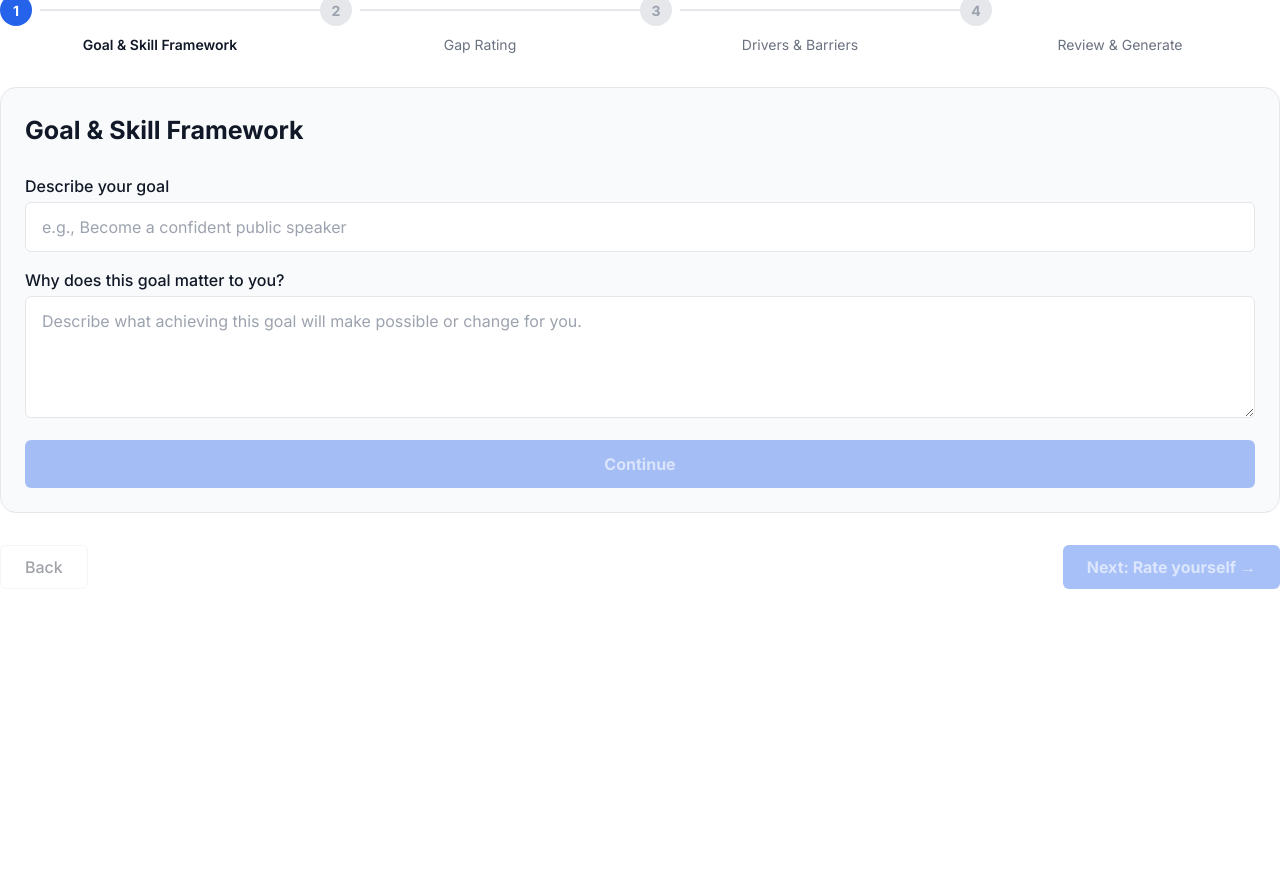
Scenario: WizardStep2 › Enter Step 2 — rows render at neutral 5 › renders one row per framework item with name, required chip, slider at 5
In the field labelled "Describe your goal": (640, 226) x1=25 y1=202 x2=1255 y2=252, type "Learn to present"
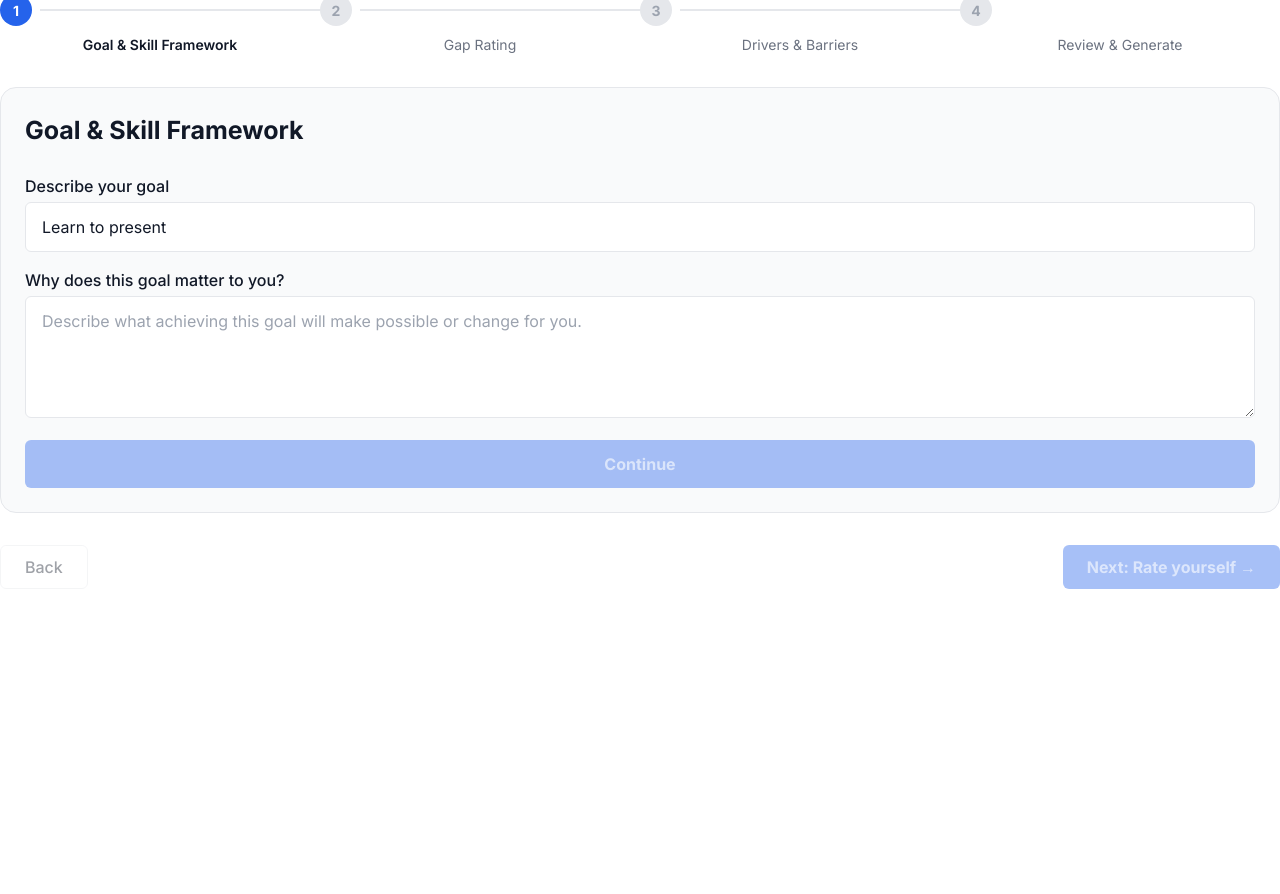
Replace the text in the text box labelled "Why does this goal matter to you?" with "To grow.": (640, 356) x1=25 y1=296 x2=1255 y2=418
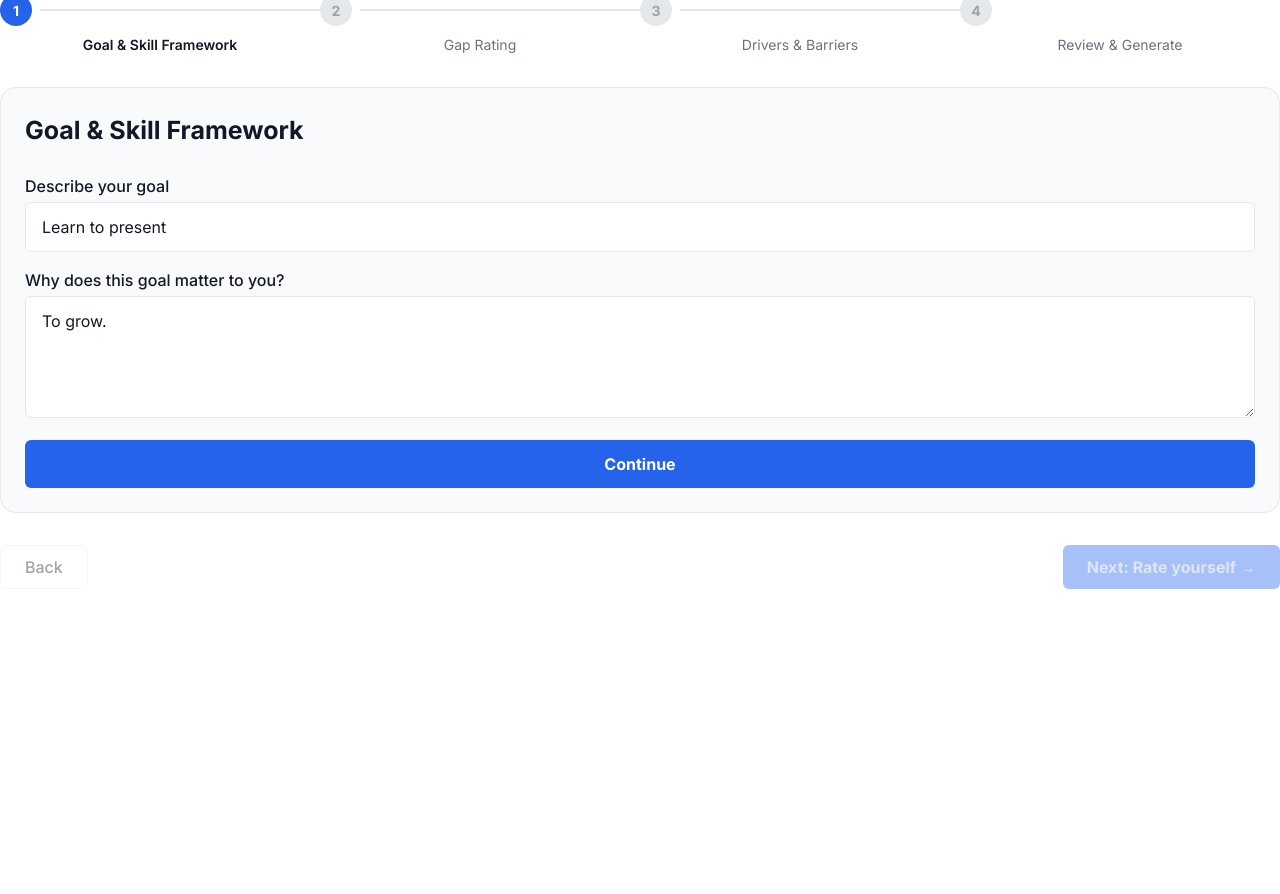
Click the button "Continue": (640, 464) x1=25 y1=440 x2=1255 y2=488
(page scrolled)
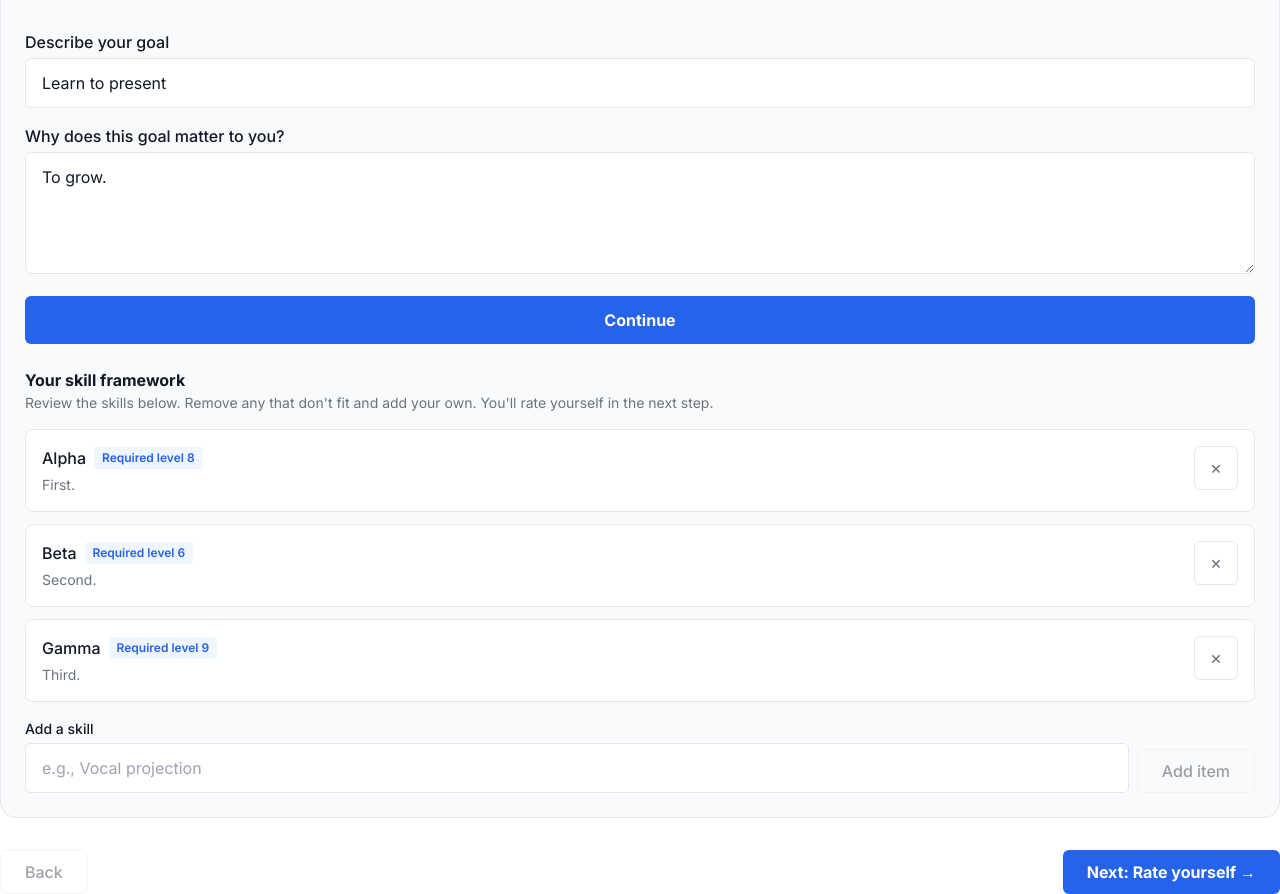
Now the heading "Your skill framework" is shown, box x1=25 y1=370 x2=185 y2=390
Click the button "Next: Rate yourself →": (1171, 872) x1=1063 y1=850 x2=1279 y2=893
(page scrolled)
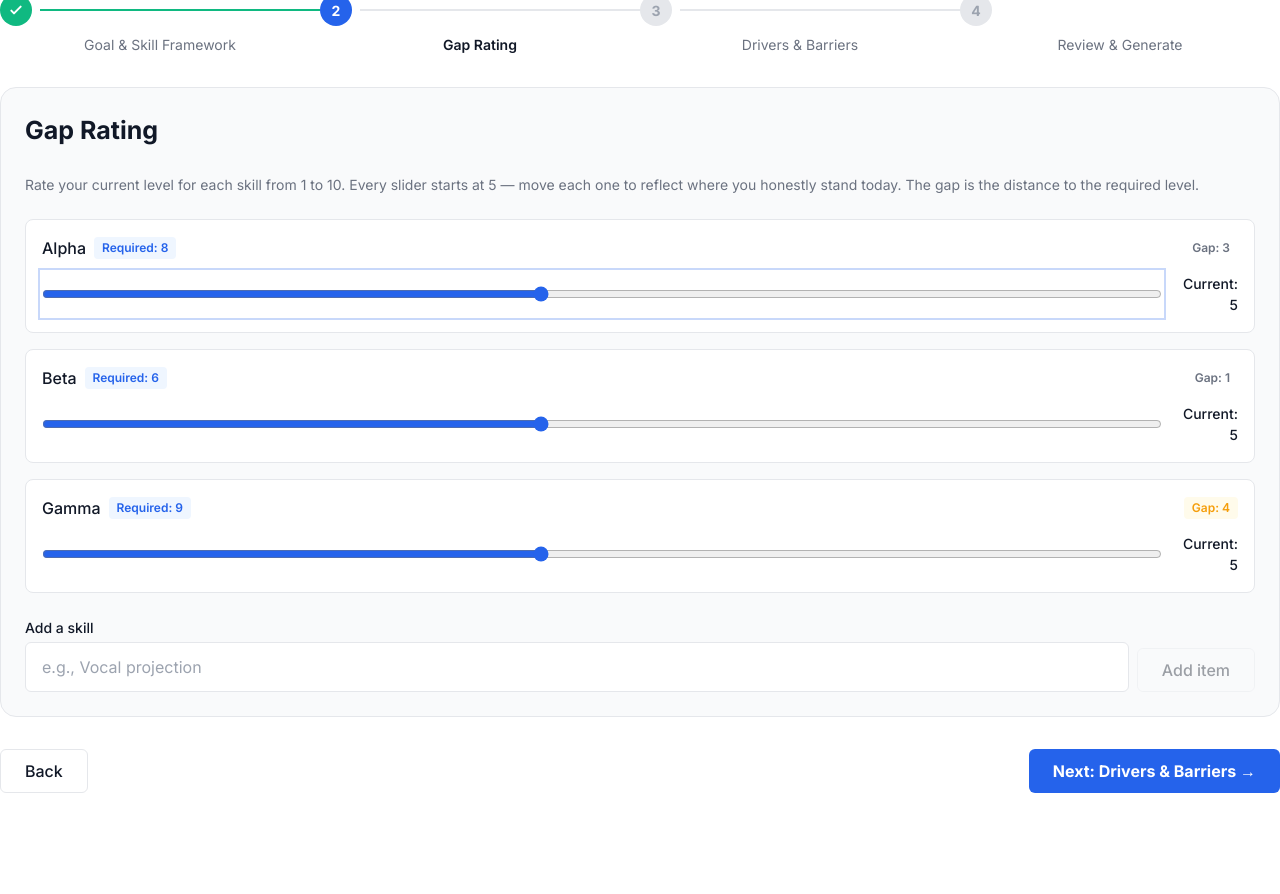
Now the heading "Gap Rating" is shown, box x1=25 y1=115 x2=158 y2=145
Now the text "Required: 8" is shown, box x1=94 y1=236 x2=176 y2=258
Now the text "Required: 6" is shown, box x1=84 y1=366 x2=167 y2=388
